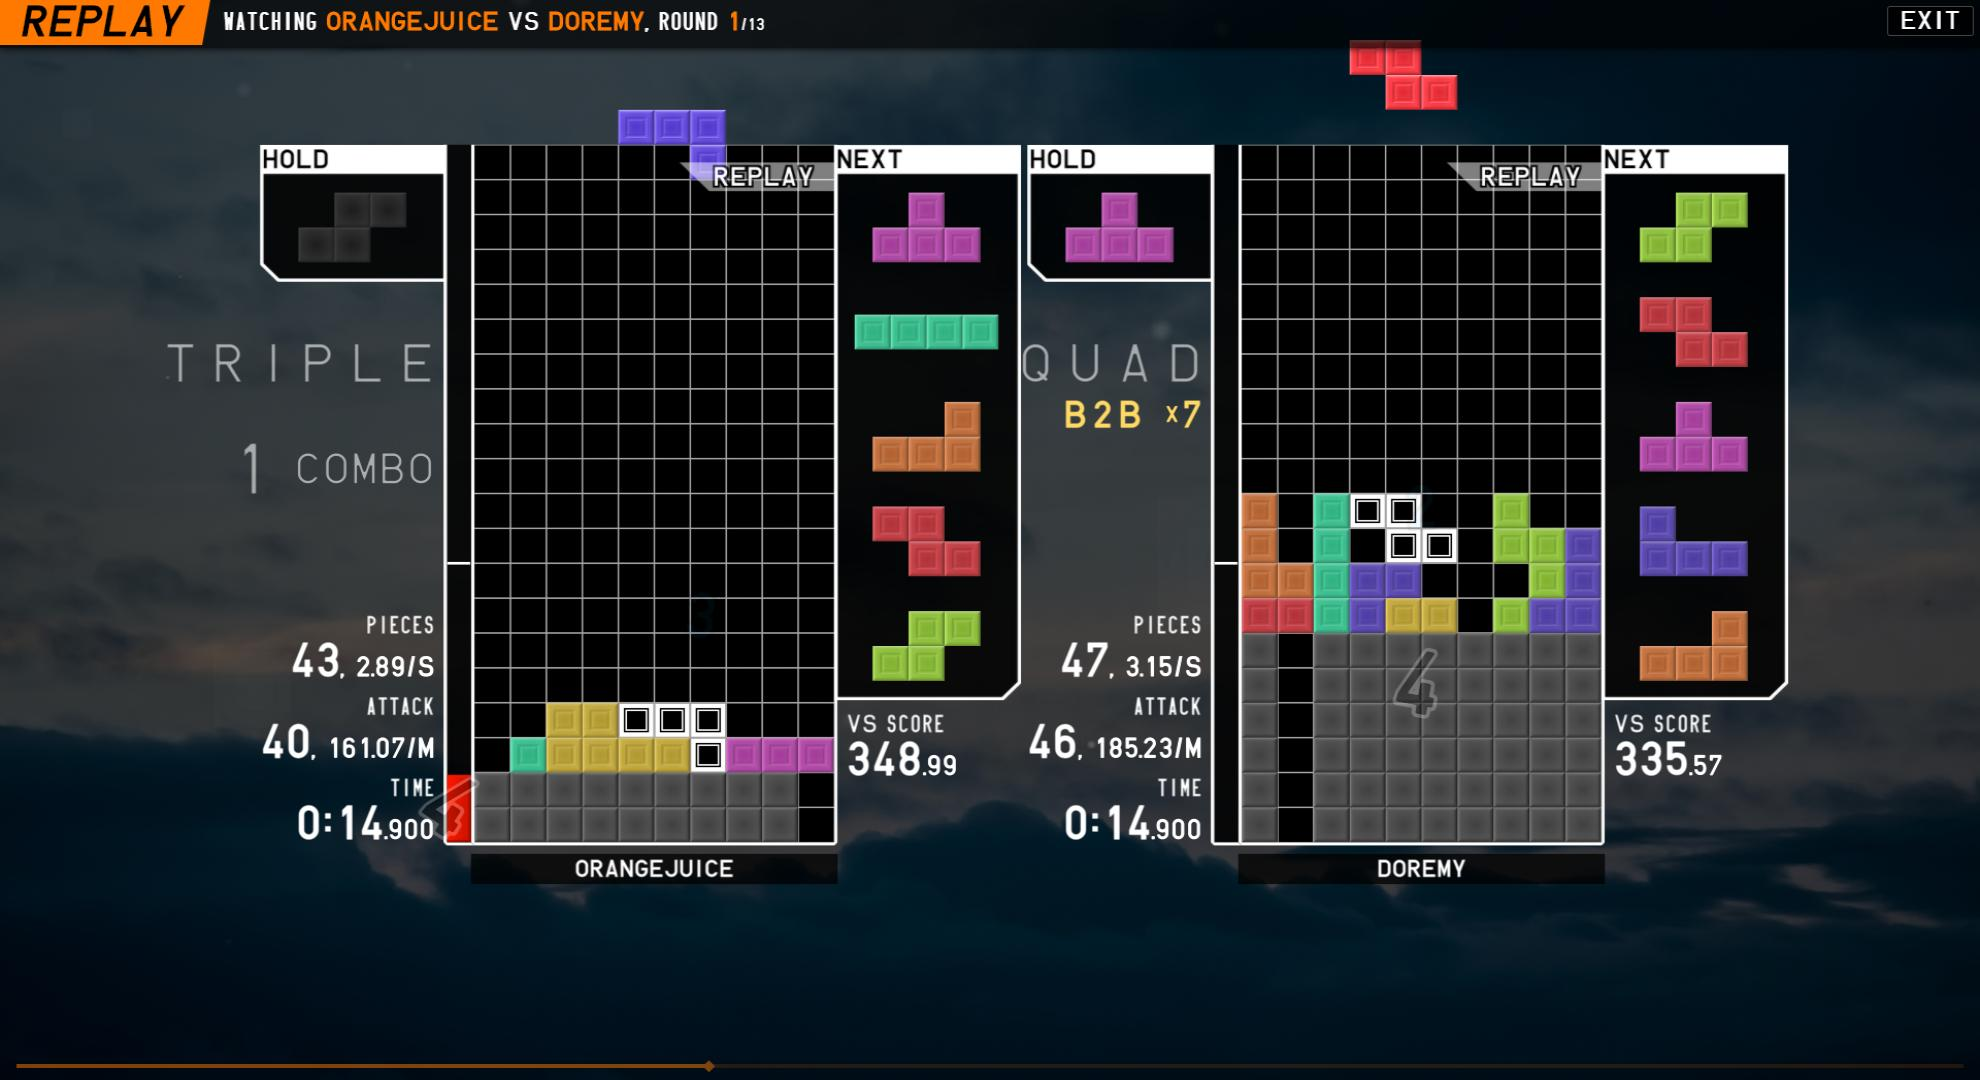tspin: (1416, 525, 1536, 638)
